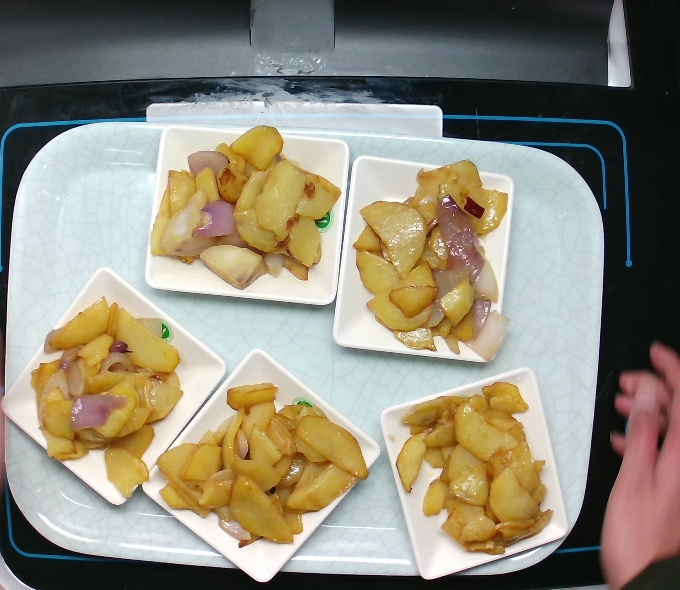wcq-TuDouPian: (153, 381, 369, 544), (349, 159, 511, 363), (145, 125, 342, 290), (29, 299, 183, 501), (390, 381, 555, 556)
